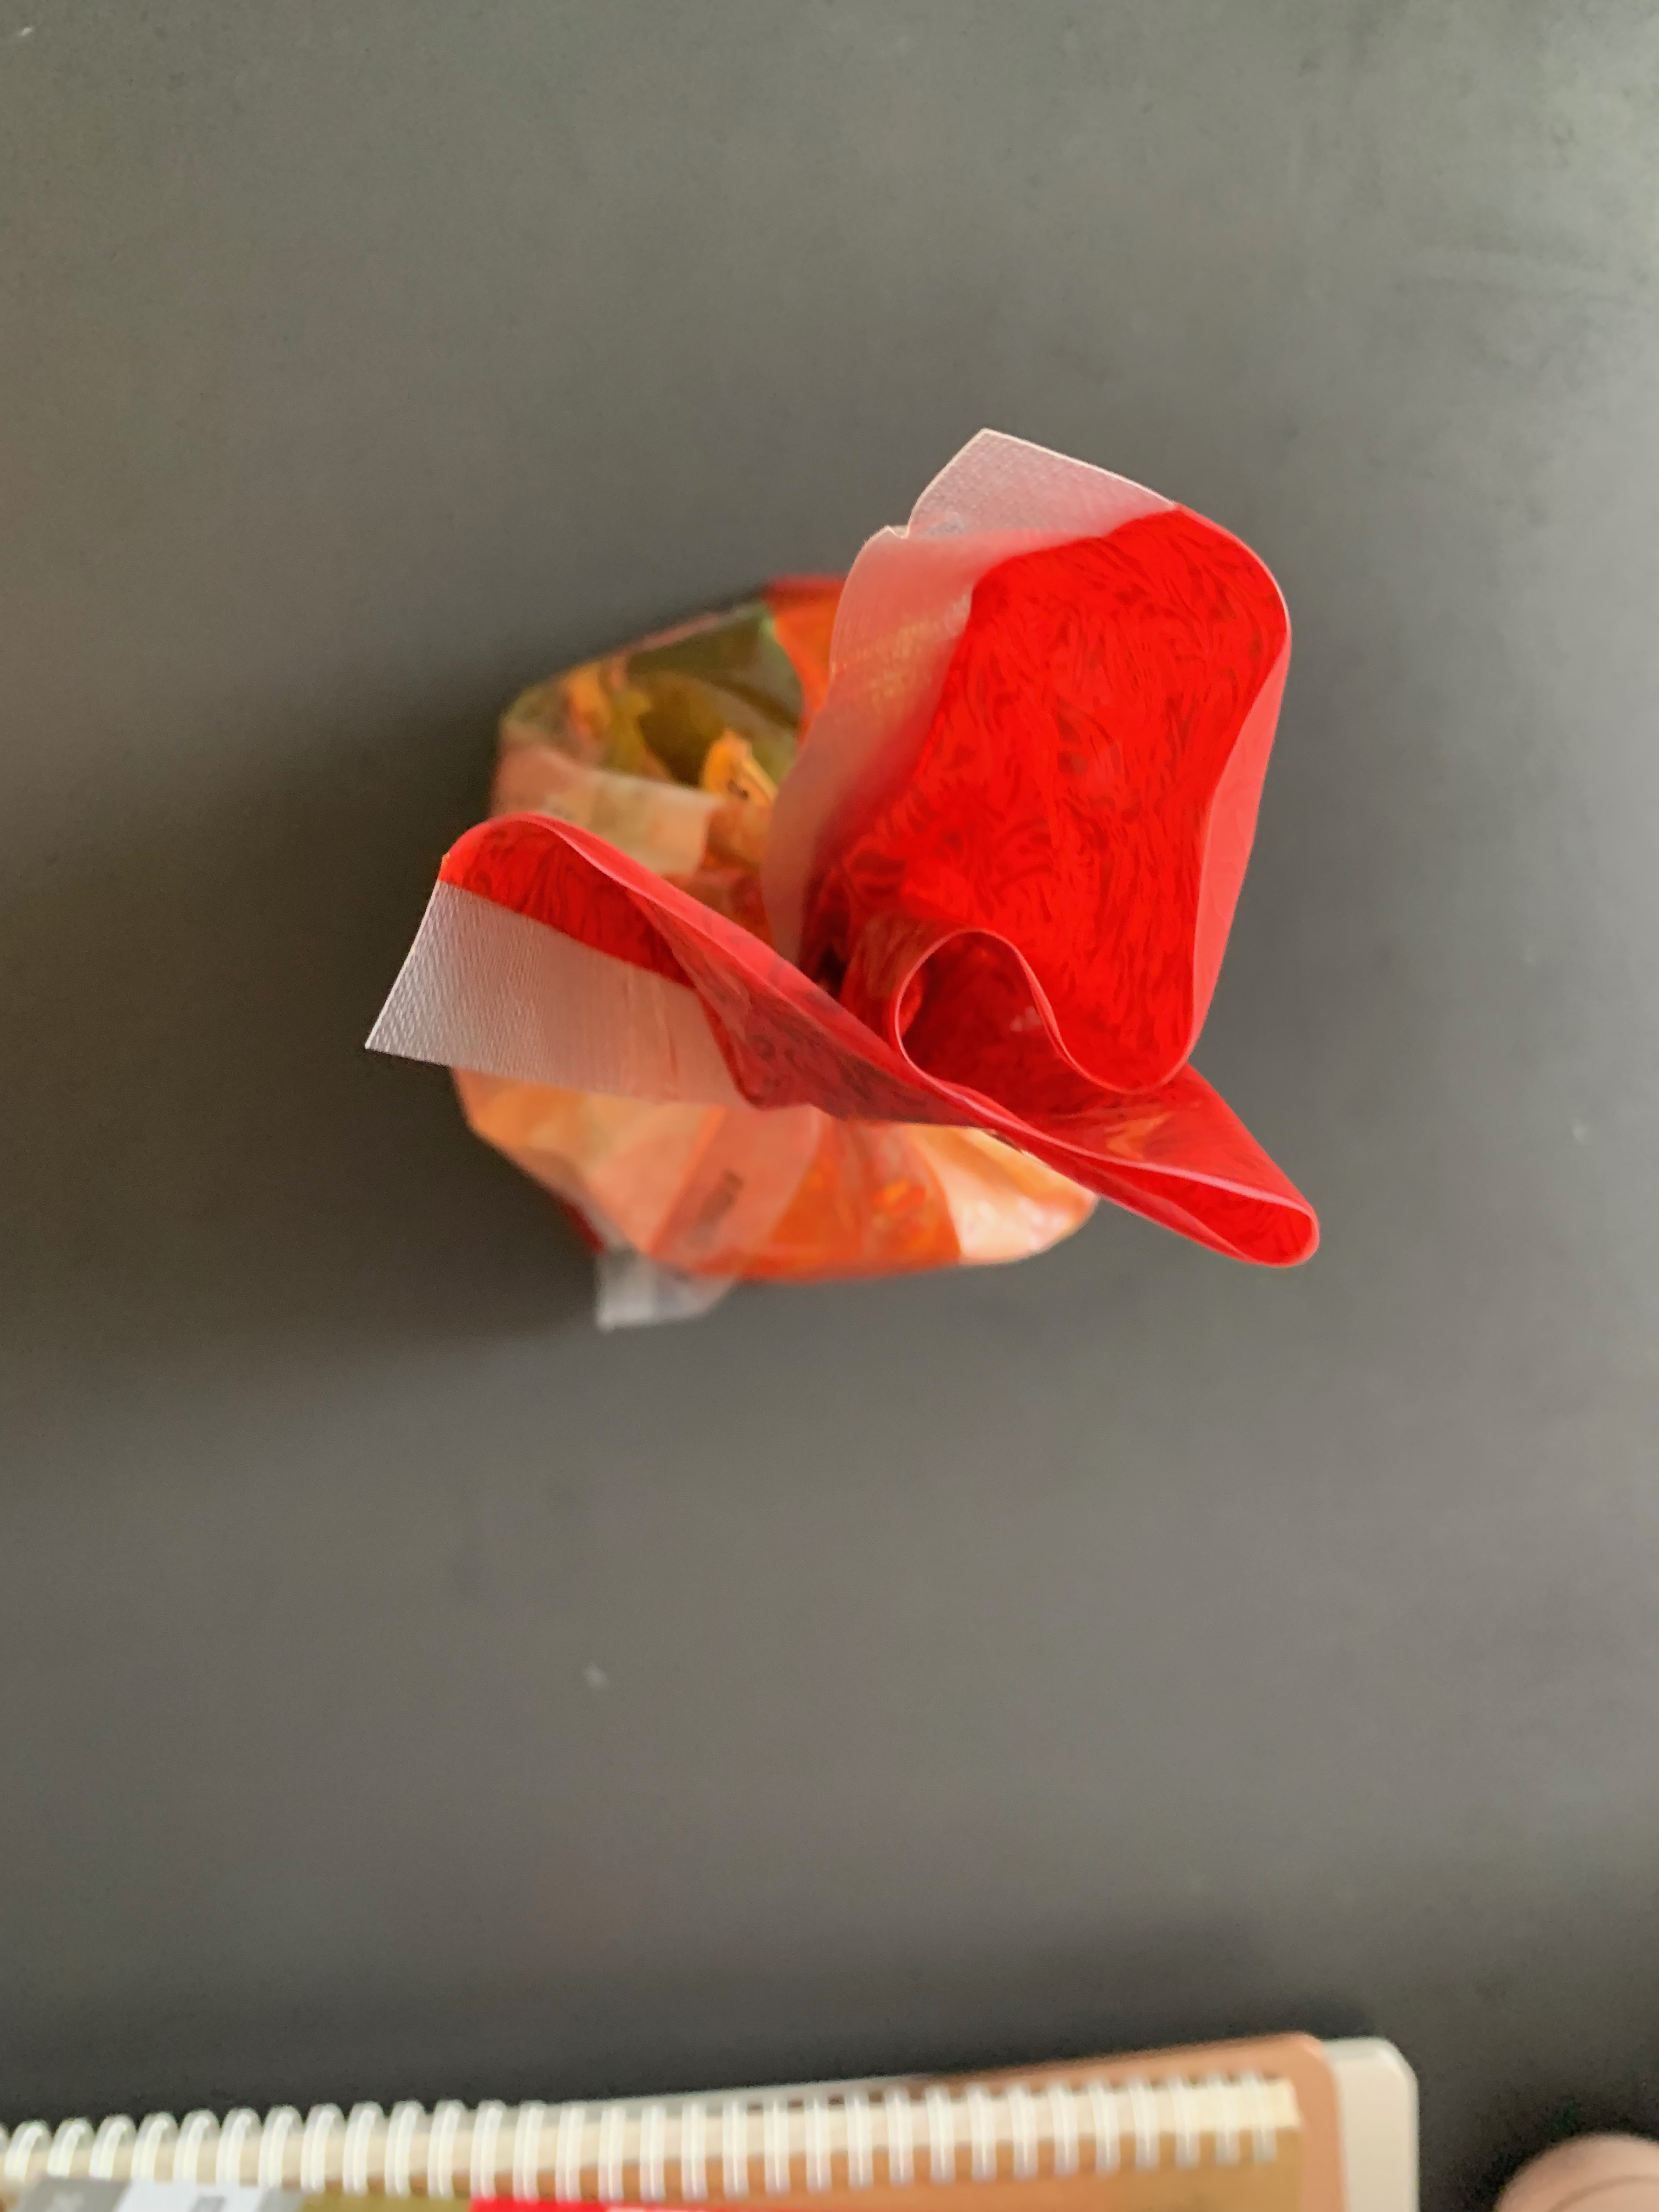kimchi: (432, 503, 1321, 1273)
